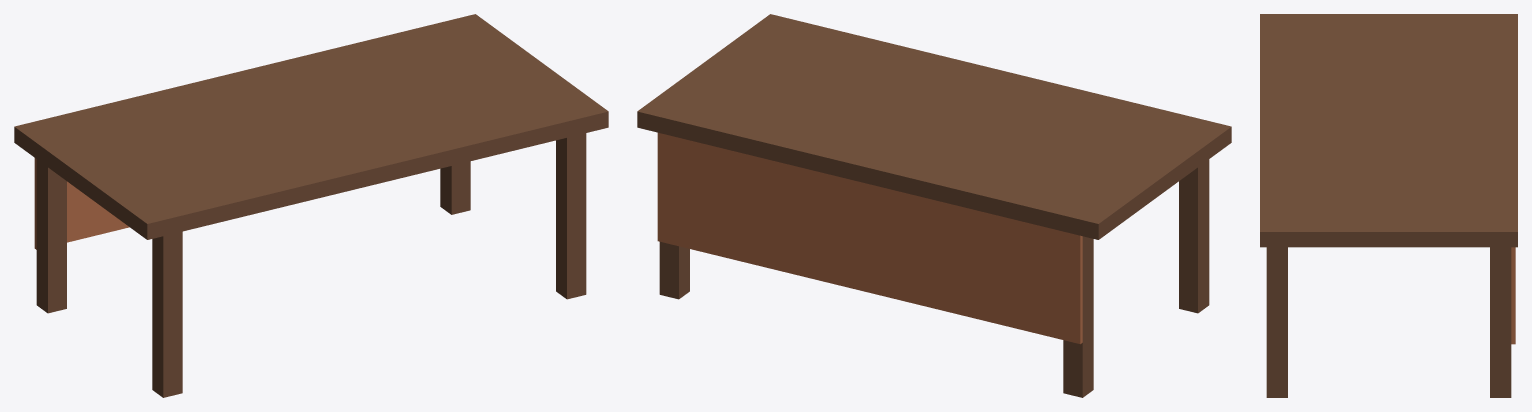
Rendered from prop_stall_2_table.glb.
The picture shows the model from 3 angles, left to right: view 1: azimuth 30°, elevation 25°; view 2: azimuth 150°, elevation 25°; view 3: azimuth 270°, elevation 25°; orthographic projection. The views are drawn at different scales.
Parts seen in each view (by area): view 1: PROP_Stall_2_Table; view 2: PROP_Stall_2_Table; view 3: PROP_Stall_2_Table.
Part boxes in pixels (x1,y1,x2,y2): PROP_Stall_2_Table: (14, 14, 608, 397); PROP_Stall_2_Table: (637, 14, 1231, 397); PROP_Stall_2_Table: (1260, 14, 1517, 397).
Size of the model in its own units: 2.4 by 0.9 by 1.2.
